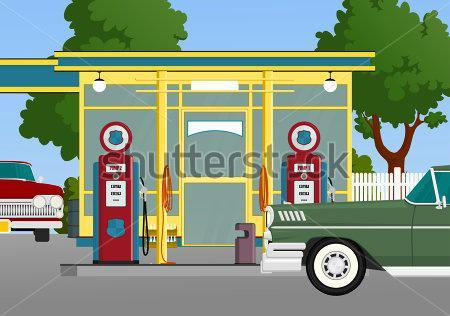car: (254, 160, 449, 300), (1, 158, 66, 246)
